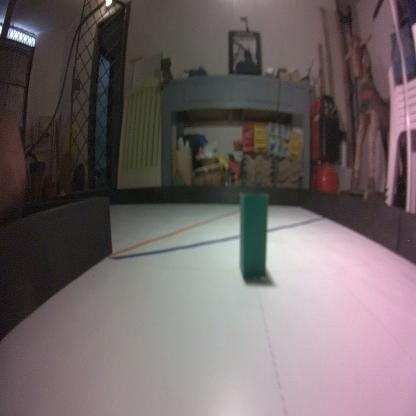green: (237, 186, 273, 282)
